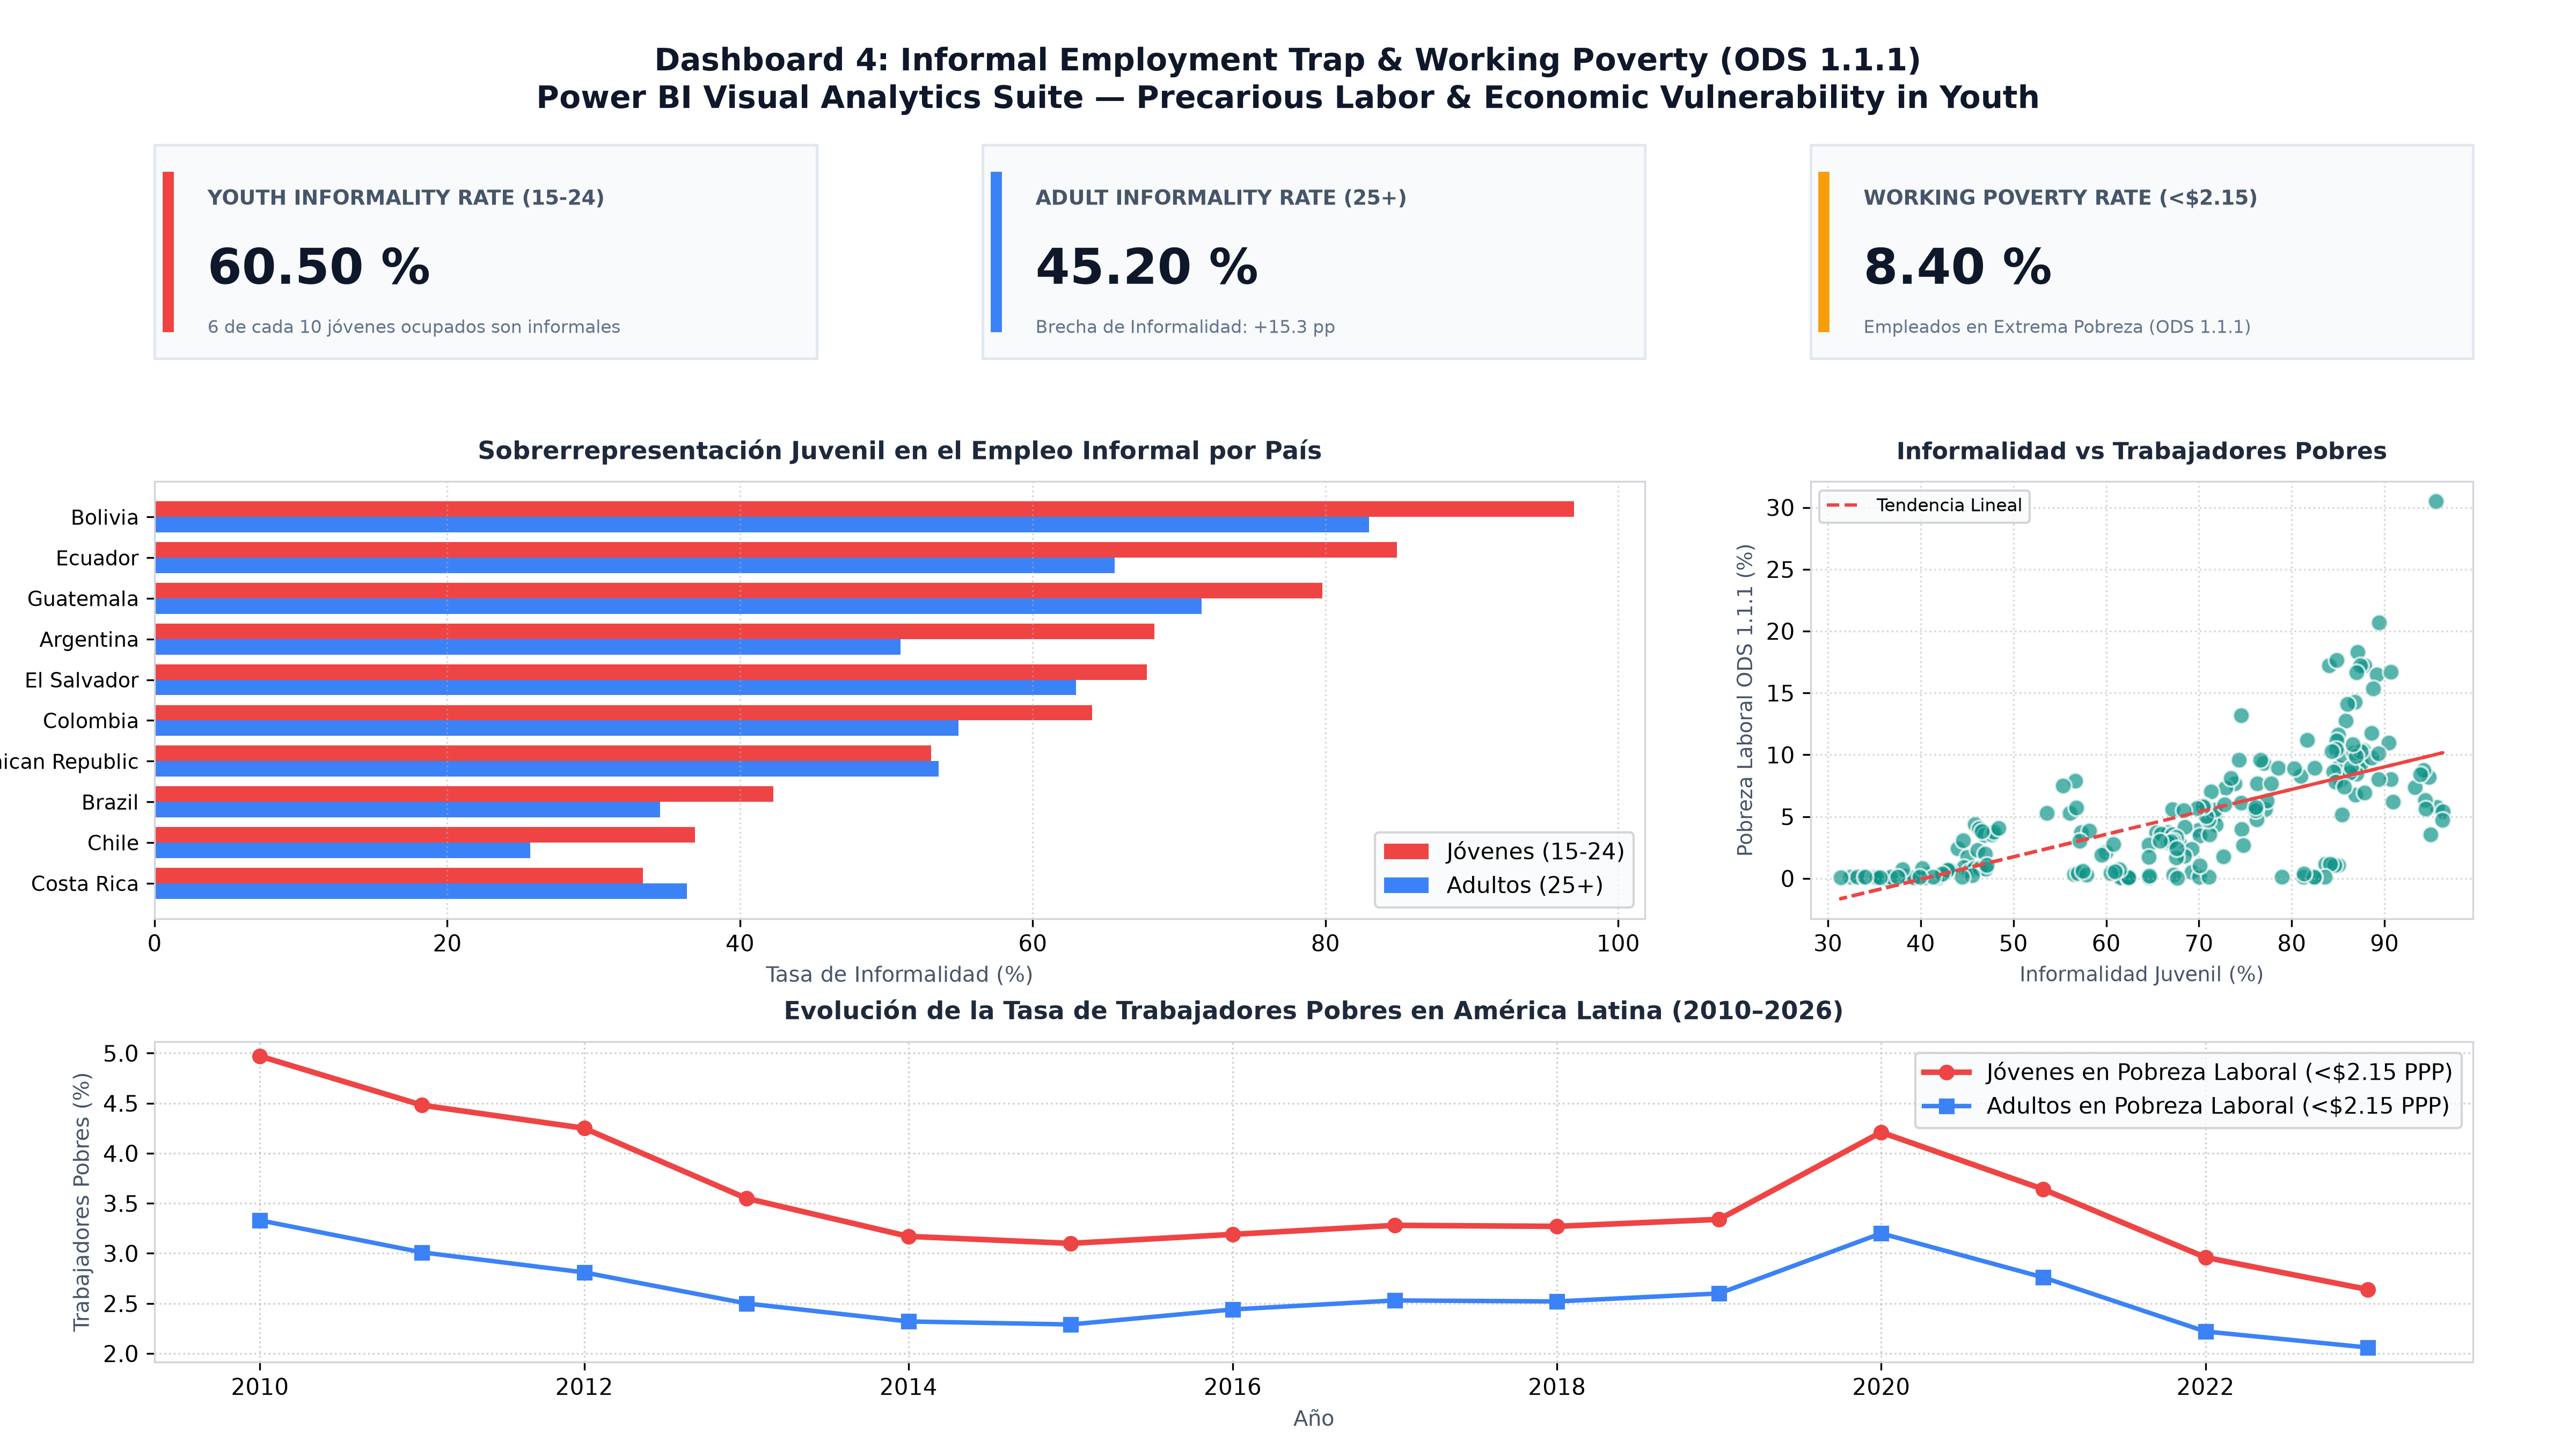

The page's visual inventory and layout, read from the dashboard file:
{"tool":"powerbi","page":{"name":"04 Vulnerabilidad","canvas":[1600,1000],"ordinal":3},"visuals":[{"type":"textbox","box":[31.7,38.3,1536.7,71.7],"z":5000},{"type":"textbox","box":[32,132,1536,29],"z":6000},{"type":"slicer","fields":{"Values":["Paises.País"]},"box":[32,174,512,80],"z":7000},{"type":"slicer","fields":{"Values":["Corte.Año"]},"box":[560,174,224,80],"z":8000},{"type":"slicer","fields":{"Values":["Sexo selector.Etiqueta"]},"box":[800,174,368,80],"z":9000},{"type":"textbox","box":[1191.7,46.7,376,55],"z":10000},{"type":"card","title":"Informalidad juvenil","fields":{"Values":["Observaciones.Informalidad juvenil"]},"box":[31.7,270,368.3,141.7],"z":12000},{"type":"card","title":"Informalidad adulta","fields":{"Values":["Observaciones.Informalidad adulta"]},"box":[416.7,270,366.7,141.7],"z":13000},{"type":"card","title":"Brecha juvenil menos adulta","fields":{"Values":["Observaciones.Brecha informalidad"]},"box":[800,270,368.3,141.7],"z":14000},{"type":"card","title":"Pobreza juvenil","fields":{"Values":["Observaciones.Pobreza juvenil último año"]},"box":[1183.3,270,368.3,141.7],"z":15000},{"type":"clusteredBarChart","title":"Informalidad por cohorte","fields":{"Category":["Paises.País"],"Y":["Observaciones.Informalidad juvenil","Observaciones.Informalidad adulta"]},"box":[32,432,548,556],"z":16000},{"type":"scatterChart","title":"Relación descriptiva","fields":{"Category":["Paises.País"],"X":["Observaciones.Informalidad para dispersión"],"Y":["Observaciones.Pobreza para dispersión"]},"box":[600,432,472,556],"z":17000},{"type":"lineChart","title":"Pobreza laboral","fields":{"Category":["Anios.Año"],"Y":["Observaciones.Pobreza jóvenes","Observaciones.Pobreza adultos"]},"box":[1088,432,480,556],"z":18000}]}

Visuals, with their boxes on the page's 1600x1000 design canvas (x1, y1, x2, y2). These are canvas units, not pixel positions in the 2576x1449 screenshot, which may show the page scaled, cropped or inside an application window:
textbox: detection(32, 38, 1568, 110)
textbox: detection(32, 132, 1568, 161)
slicer - Paises.País: detection(32, 174, 544, 254)
slicer - Corte.Año: detection(560, 174, 784, 254)
slicer - Sexo selector.Etiqueta: detection(800, 174, 1168, 254)
textbox: detection(1192, 47, 1568, 102)
"Informalidad juvenil" card: detection(32, 270, 400, 412)
"Informalidad adulta" card: detection(417, 270, 783, 412)
"Brecha juvenil menos adulta" card: detection(800, 270, 1168, 412)
"Pobreza juvenil" card: detection(1183, 270, 1552, 412)
"Informalidad por cohorte" clusteredBarChart: detection(32, 432, 580, 988)
"Relación descriptiva" scatterChart: detection(600, 432, 1072, 988)
"Pobreza laboral" lineChart: detection(1088, 432, 1568, 988)
